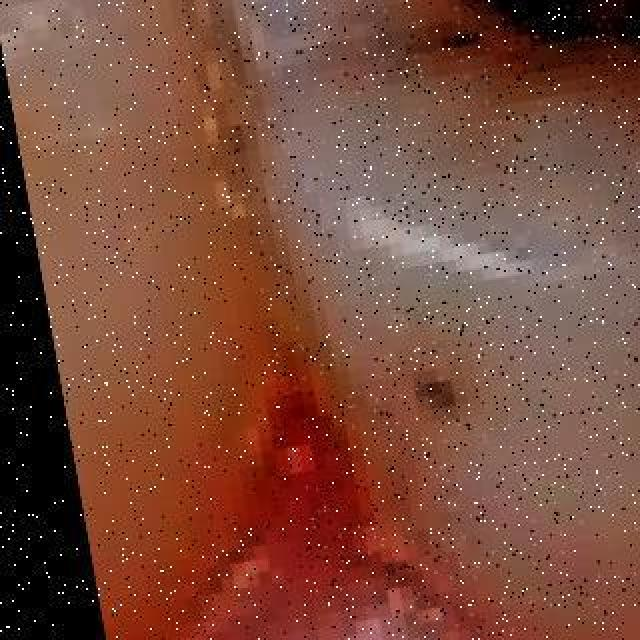cavities: (186, 0, 640, 604)
